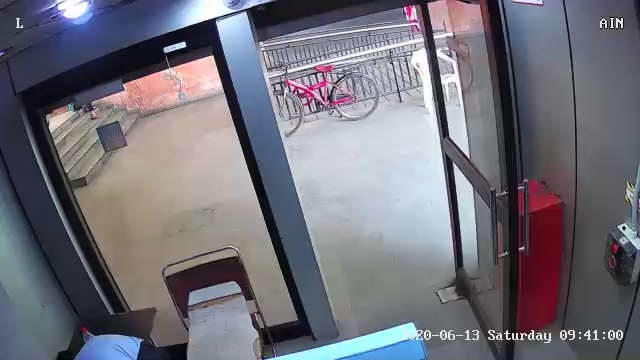open: (402, 6, 557, 358)
